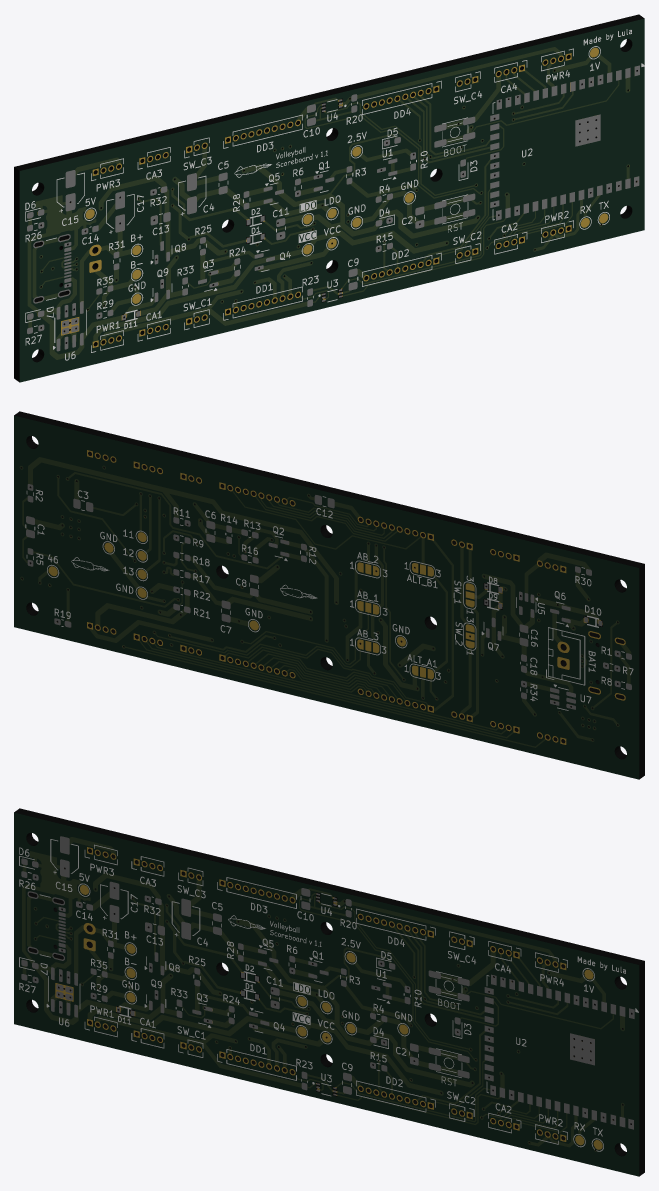
Rendered from main-board-v1.0-bare.glb.
3 views of the same model, one above another, from view 1: azimuth 30°, elevation 25°; view 2: azimuth 150°, elevation 25°; view 3: azimuth 330°, elevation 25° (orthographic).
Parts seen in each view (by area): view 1: SHAPE_5, SHAPE_1, SHAPE_3, SHAPE_9, SHAPE_4; view 2: SHAPE_5, SHAPE_1, SHAPE_3, SHAPE_9, SHAPE_4; view 3: SHAPE_5, SHAPE_1, SHAPE_3, SHAPE_9, SHAPE_4.
Boxes of the visible parts, box(x1,y1,x2,y2) form: SHAPE_5: box(19, 18, 644, 382); SHAPE_1: box(14, 14, 644, 382); SHAPE_3: box(28, 47, 637, 359); SHAPE_9: box(25, 29, 644, 360); SHAPE_4: box(27, 65, 639, 351); SHAPE_5: box(14, 415, 639, 779); SHAPE_1: box(14, 411, 644, 779); SHAPE_3: box(20, 450, 630, 747); SHAPE_9: box(25, 489, 633, 710); SHAPE_4: box(26, 484, 631, 709); SHAPE_5: box(14, 812, 639, 1176); SHAPE_1: box(14, 808, 644, 1176); SHAPE_3: box(22, 837, 624, 1151); SHAPE_9: box(19, 839, 638, 1151); SHAPE_4: box(21, 836, 634, 1129).
Bounding box in the file's own units: 0.102 × 0.033 × 0.00175.
